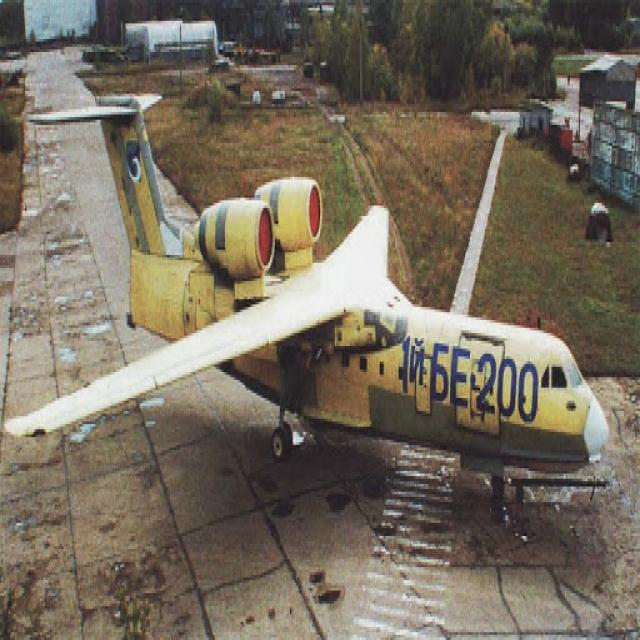MIL_Plane: (2, 91, 610, 502)
